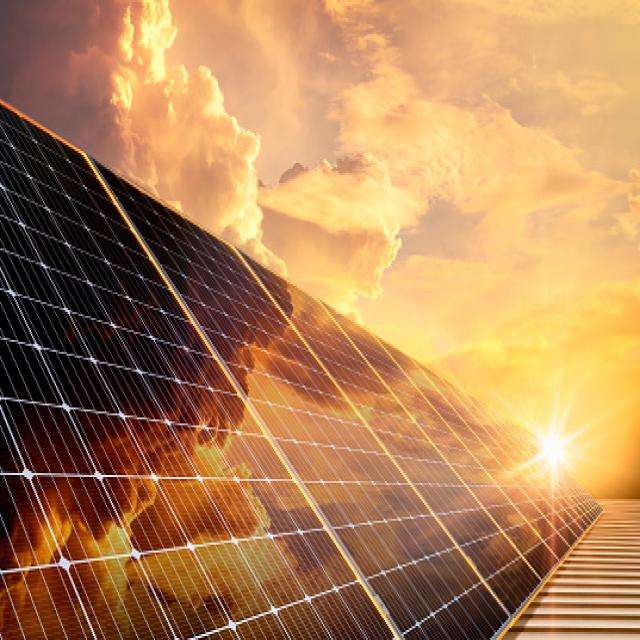clean-solar-panel: (1, 102, 600, 638)
